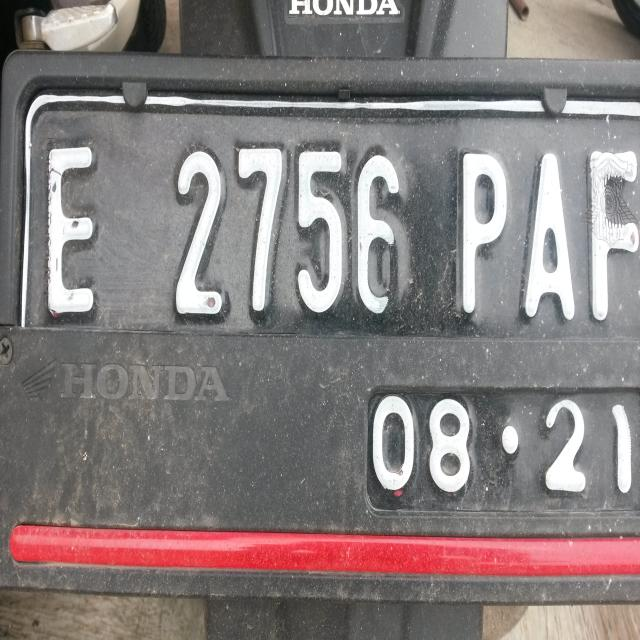plate: (23, 88, 640, 522)
